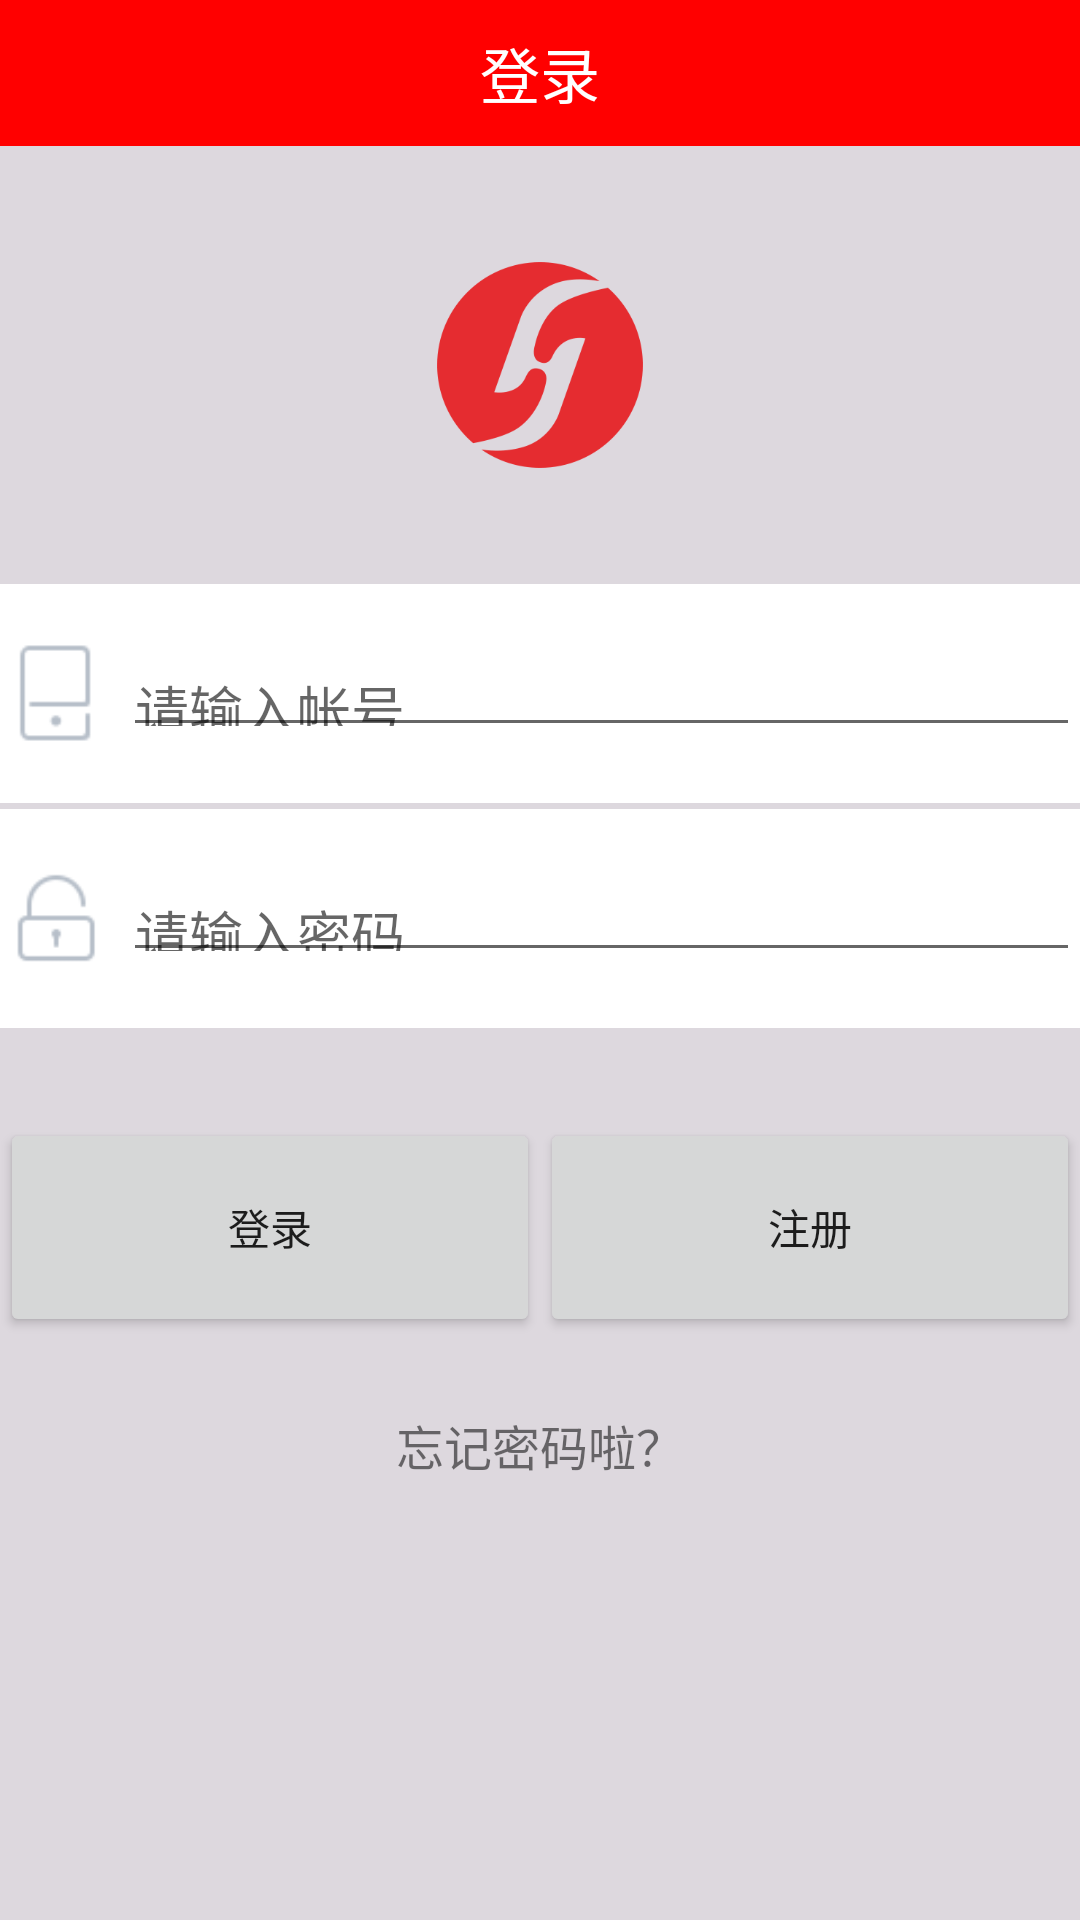

Icon click points for this 1080w x 1920h phone screenshot, format point (x, y):
phone: point (55, 693)
